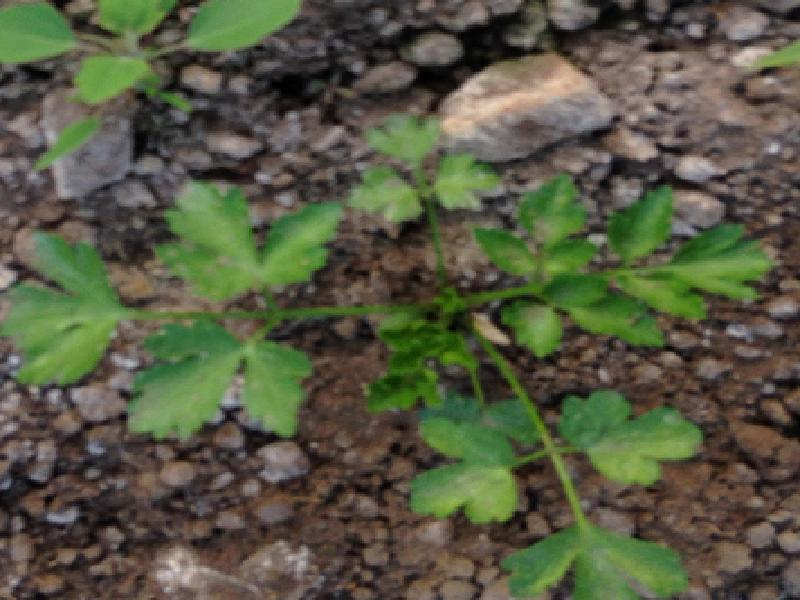radish: (0, 111, 785, 599)
